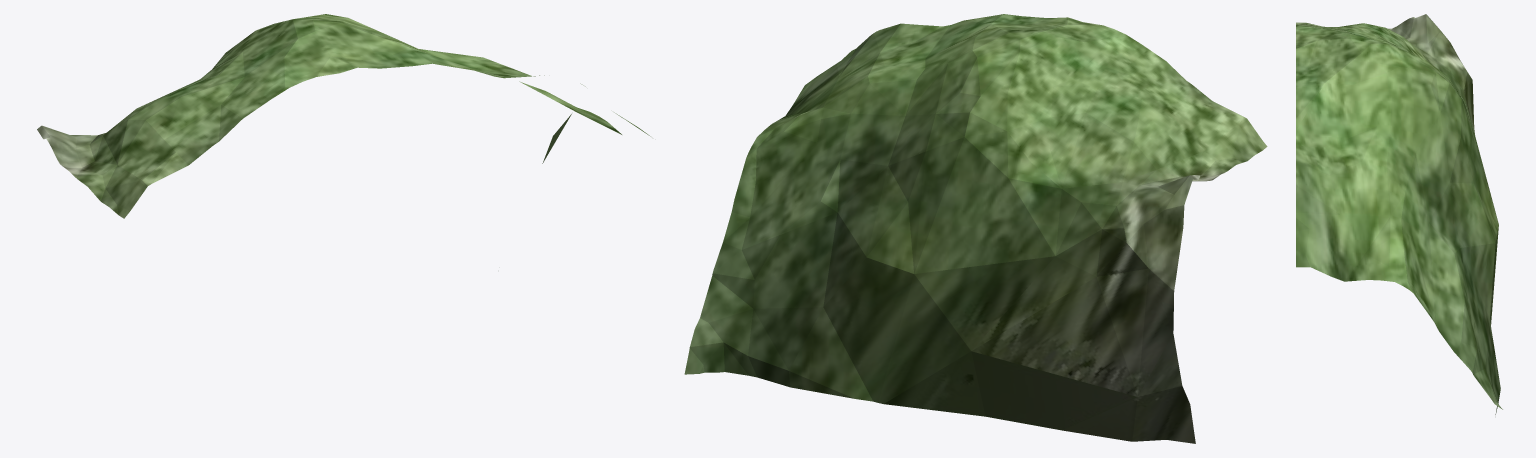
3 views of the same model, side by side, from view 1: azimuth 30°, elevation 25°; view 2: azimuth 150°, elevation 25°; view 3: azimuth 270°, elevation 25° (orthographic). The views are drawn at different scales.
Bounding box in the file's own units: 2.95 × 2.08 × 1.45.
Materials: 2 (2 with a texture image).
